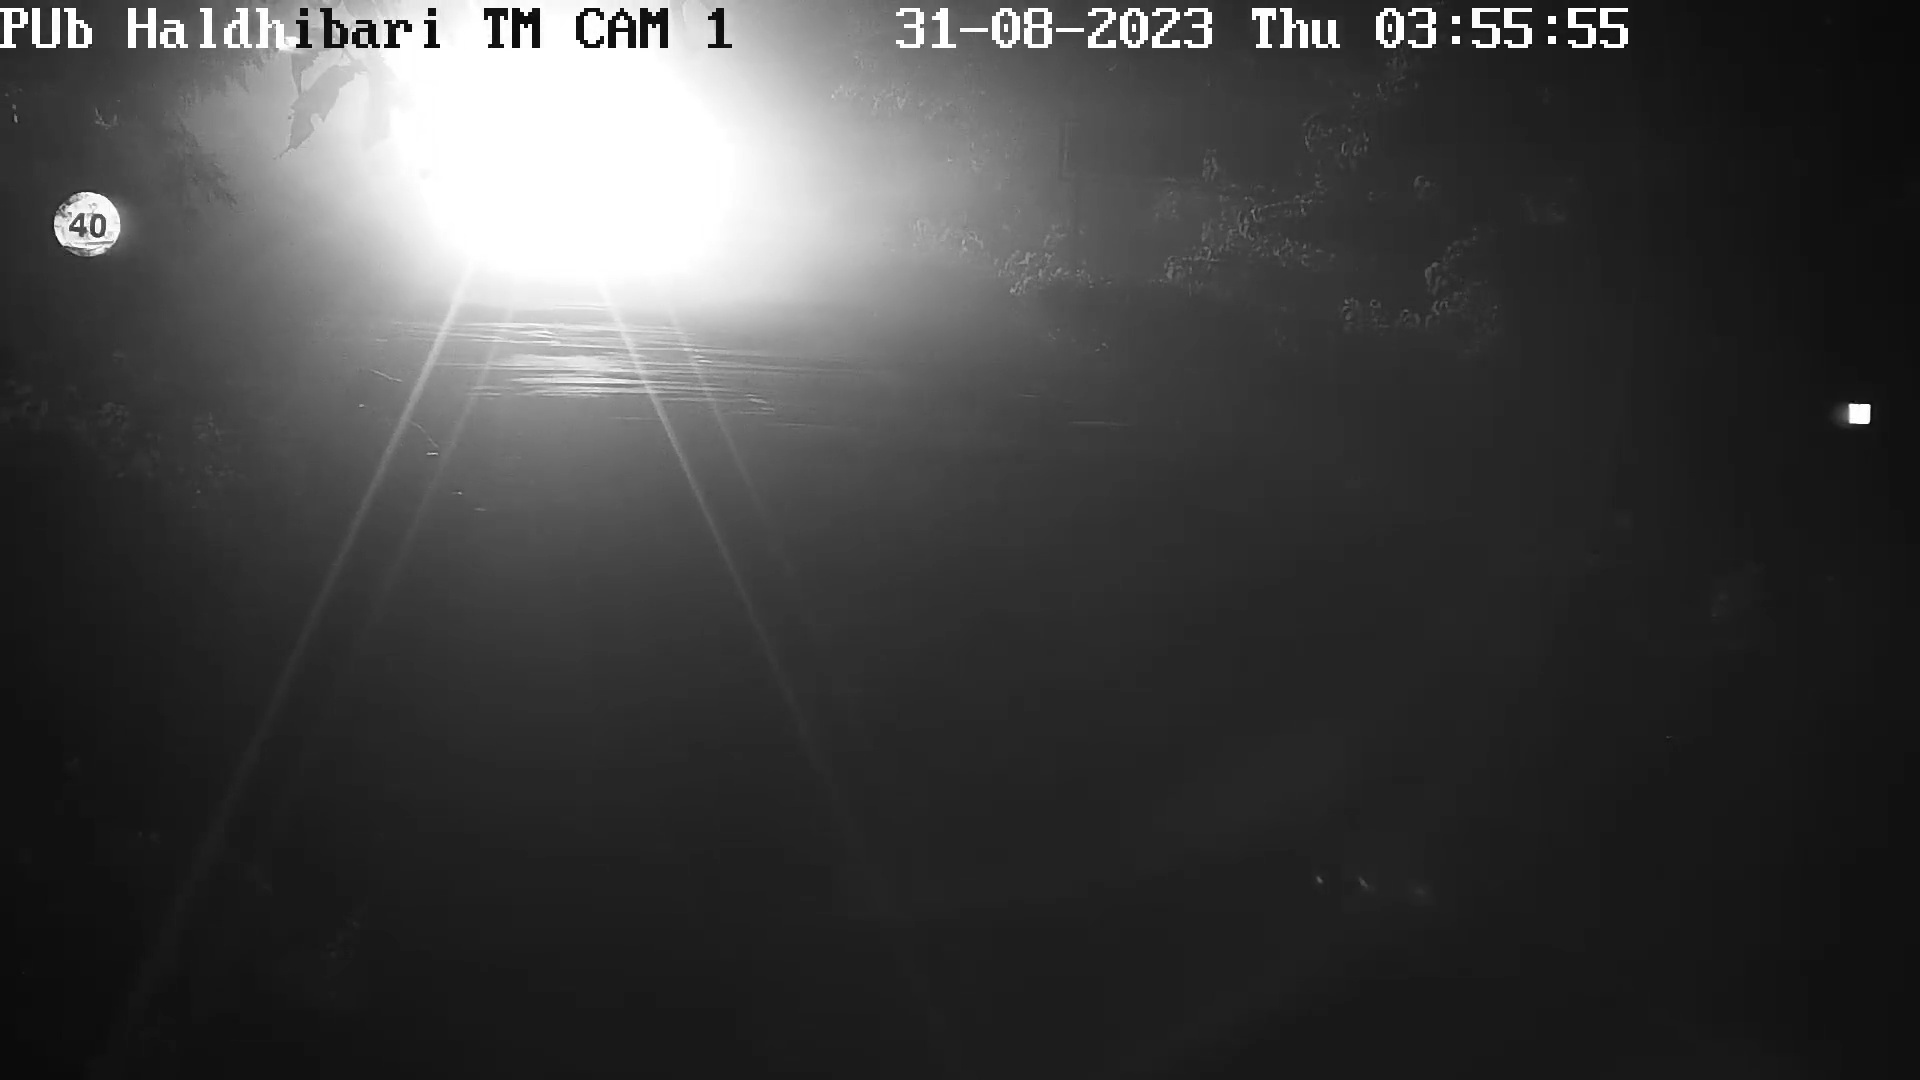deers: (335, 359, 411, 418)
